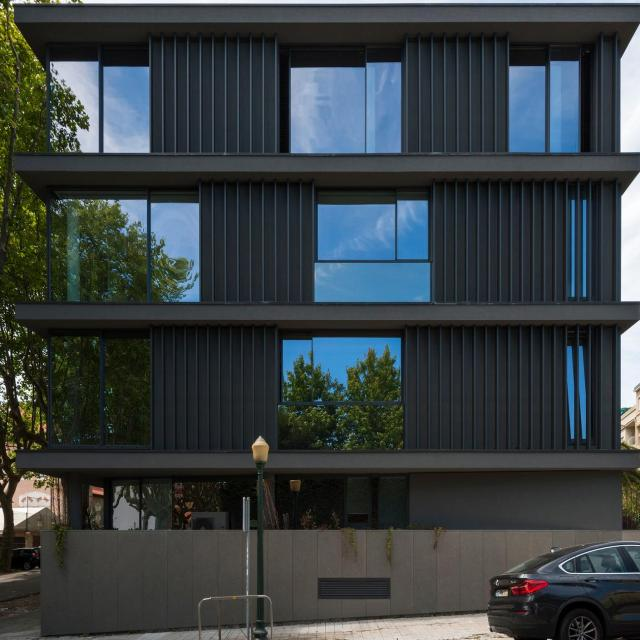wall: (12, 5, 640, 637)
windows: (53, 198, 201, 305), (109, 480, 407, 530), (282, 337, 405, 451), (314, 199, 430, 306), (46, 335, 151, 447), (287, 50, 400, 154), (47, 54, 148, 153), (508, 54, 580, 154), (566, 346, 574, 441), (578, 346, 586, 440), (570, 200, 574, 298), (582, 201, 586, 298)
